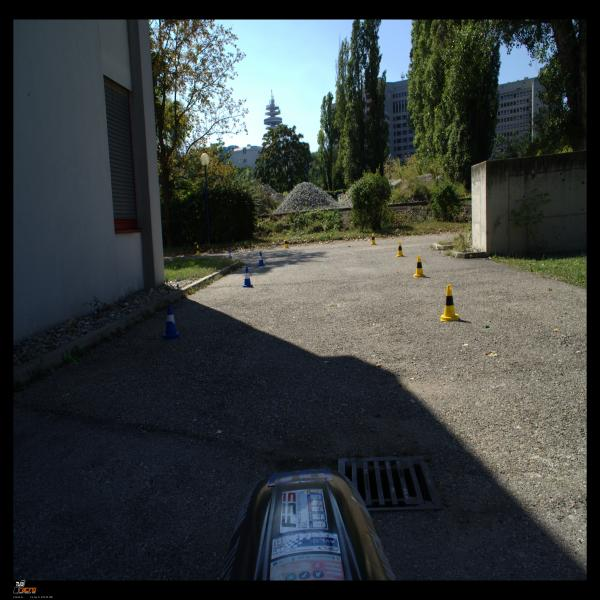blue_cone: (161, 304, 181, 339), (242, 266, 253, 288), (257, 252, 266, 266), (228, 249, 232, 259)
yellow_cone: (441, 285, 459, 321), (413, 256, 426, 278), (395, 241, 405, 257), (370, 233, 377, 245), (196, 245, 201, 255), (284, 238, 289, 248)
